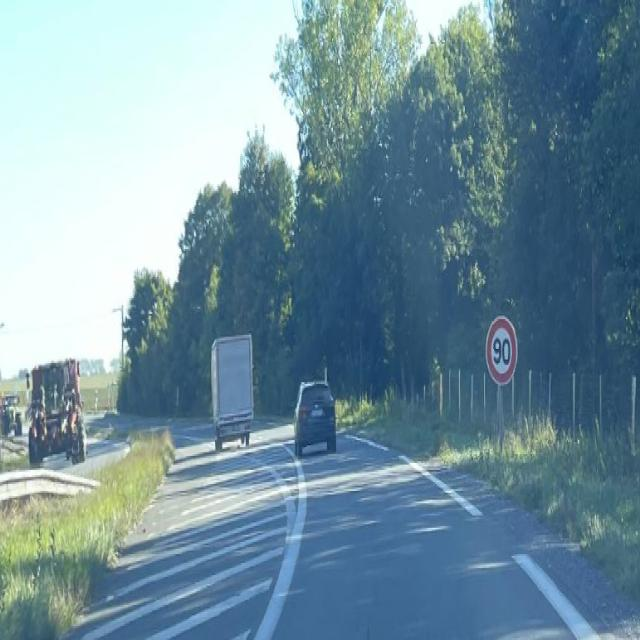speed_90: (487, 316, 517, 384)
